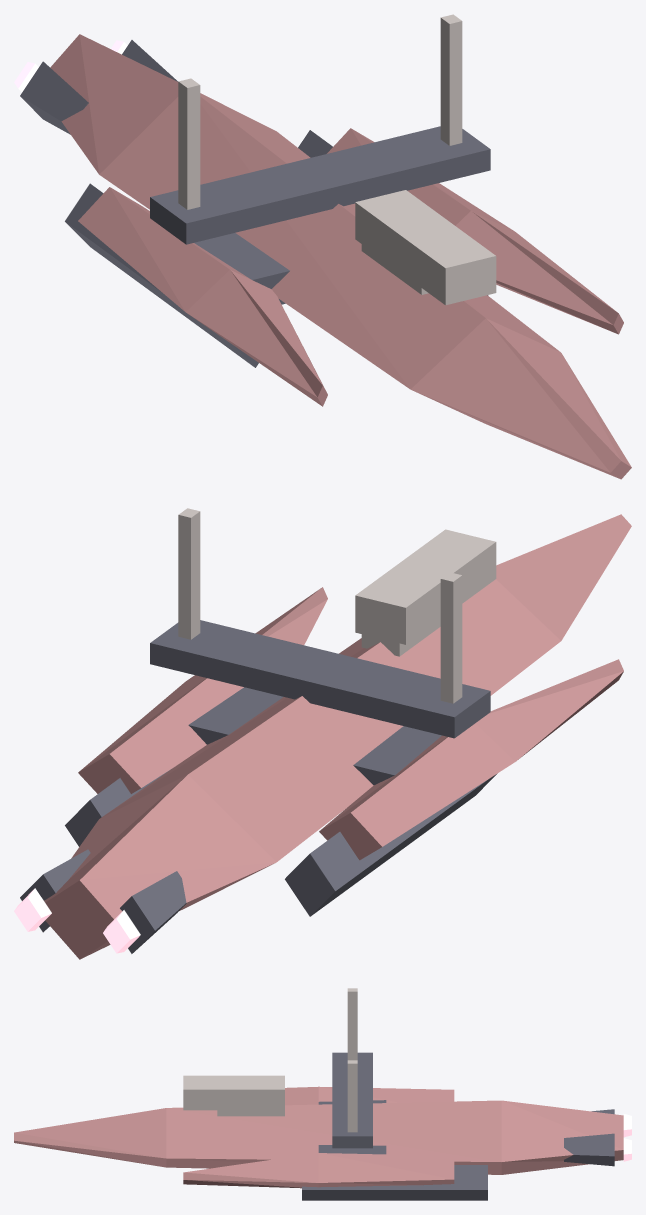
3 views of the same model, one above another, from view 1: azimuth 30°, elevation 25°; view 2: azimuth 150°, elevation 25°; view 3: azimuth 270°, elevation 25° (orthographic). The views are drawn at different scales.
Bounding box in the file's own units: 2.68 × 2.06 × 7.74.
